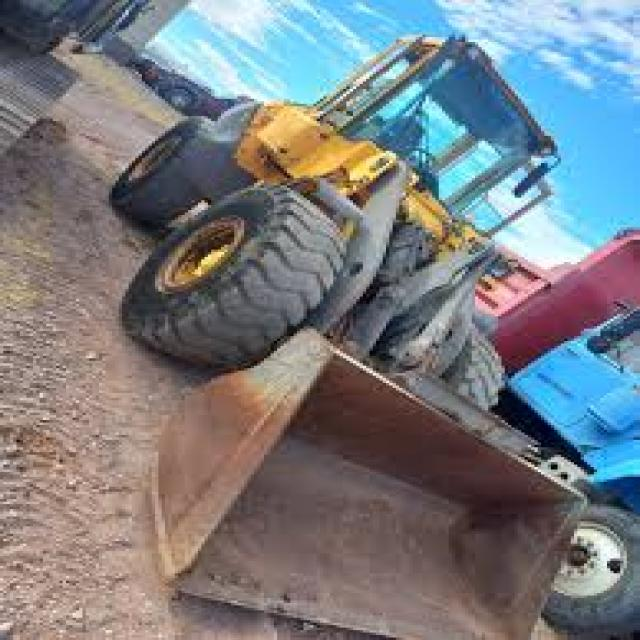buldozerpayloadergrader: (114, 17, 598, 640)
